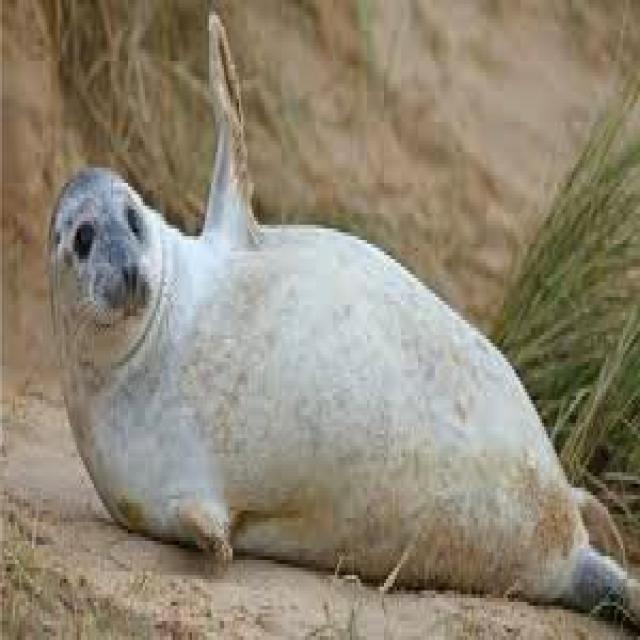seal: (51, 11, 640, 621)
